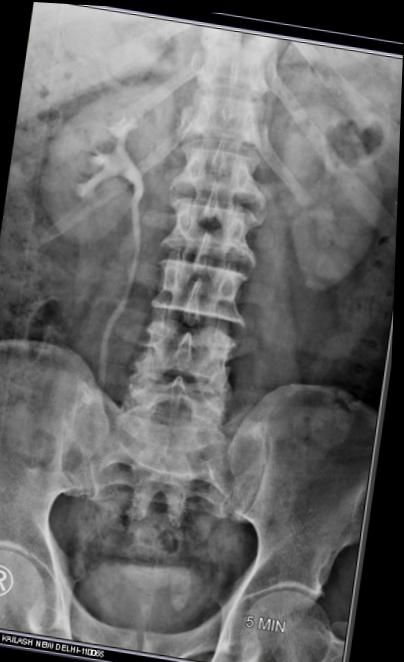bladder: (61, 537, 229, 643)
left kidney: (249, 88, 401, 300)
right kidney: (26, 62, 184, 262)
vertebrae: (171, 138, 273, 206)
